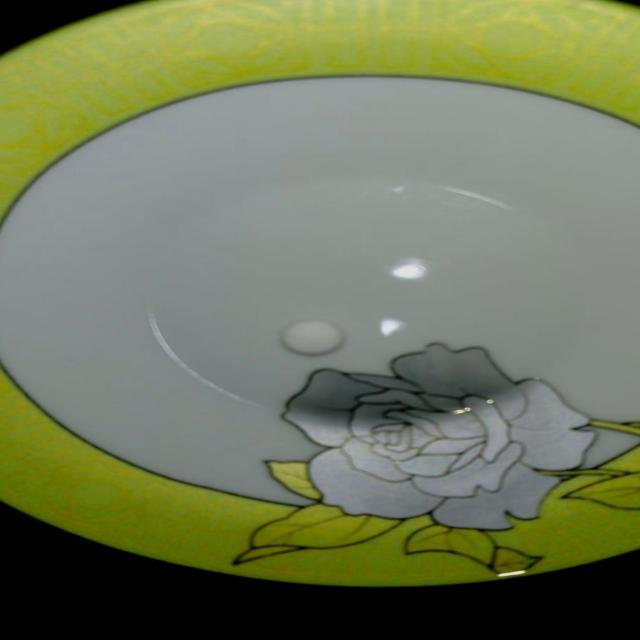pill: (274, 319, 350, 357)
